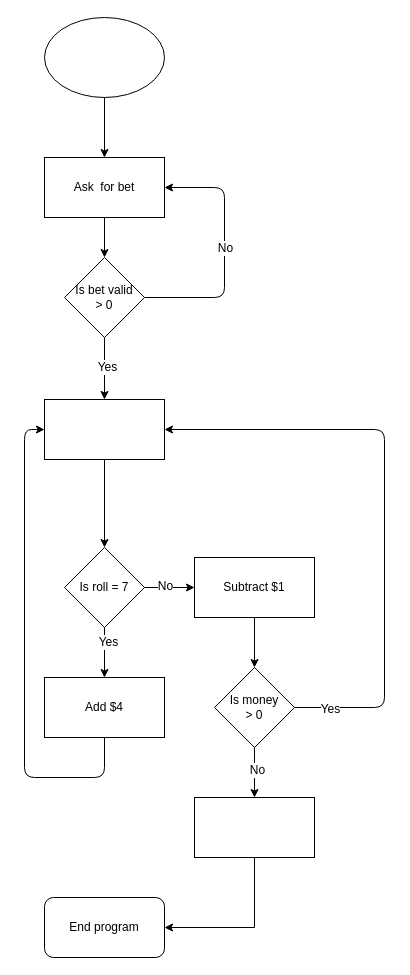
Some shapes in this 410 by 975 pixel diagram are drawn without their labels. Here are the shapes that lost their labels. From the top down, the box of each, then its label:
(44, 16, 164, 98): Start
(44, 398, 164, 460): Role dice
(194, 796, 314, 858): Show results
